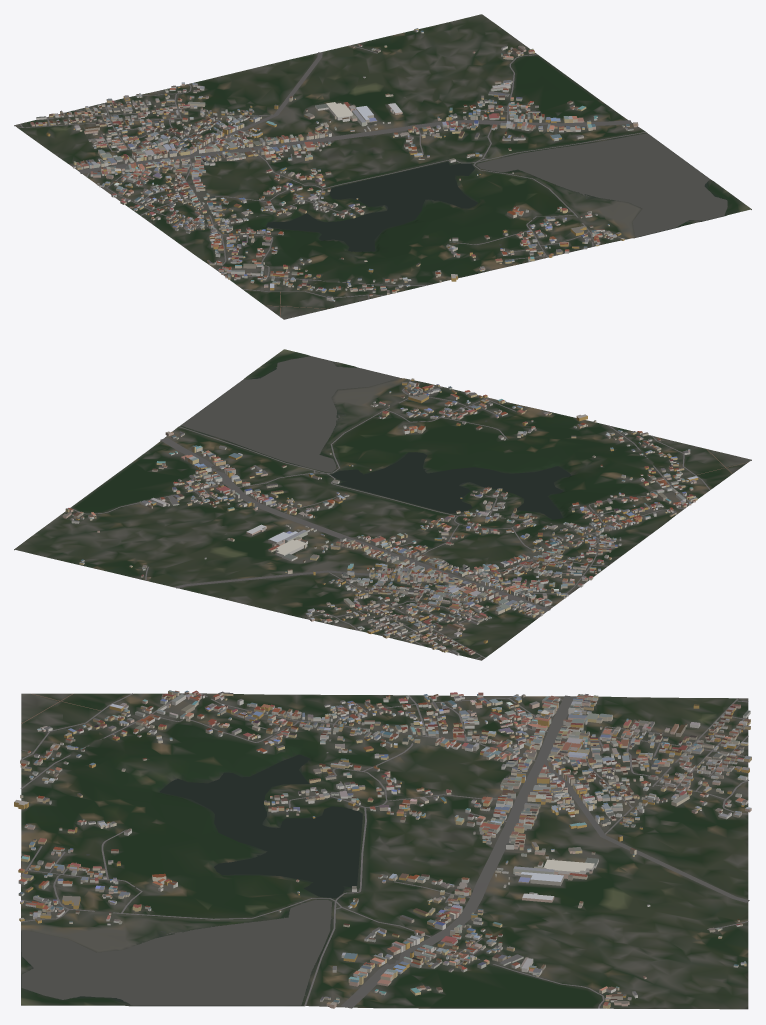
The picture shows the model from 3 angles, top to bottom: view 1: azimuth 30°, elevation 25°; view 2: azimuth 150°, elevation 25°; view 3: azimuth 270°, elevation 25°; orthographic projection. The views are drawn at different scales.
Visible parts, largest first — view 1: ground, buildings, water, roads; view 2: ground, buildings, water, roads; view 3: ground, buildings, water, roads.
Part boxes in pixels (x1=…): ground: x1=14, y1=14, x2=751, y2=319; buildings: x1=30, y1=28, x2=638, y2=301; water: x1=266, y1=133, x2=727, y2=251; roads: x1=18, y1=45, x2=646, y2=317; ground: x1=14, y1=349, x2=751, y2=660; buildings: x1=62, y1=378, x2=698, y2=655; water: x1=181, y1=356, x2=571, y2=519; roads: x1=73, y1=379, x2=748, y2=659; ground: x1=21, y1=693, x2=748, y2=1009; buildings: x1=14, y1=690, x2=751, y2=1008; water: x1=21, y1=754, x2=362, y2=1005; roads: x1=20, y1=693, x2=749, y2=1008.
Bounding box in the file's own units: 1413 × 30.31 × 1423.
